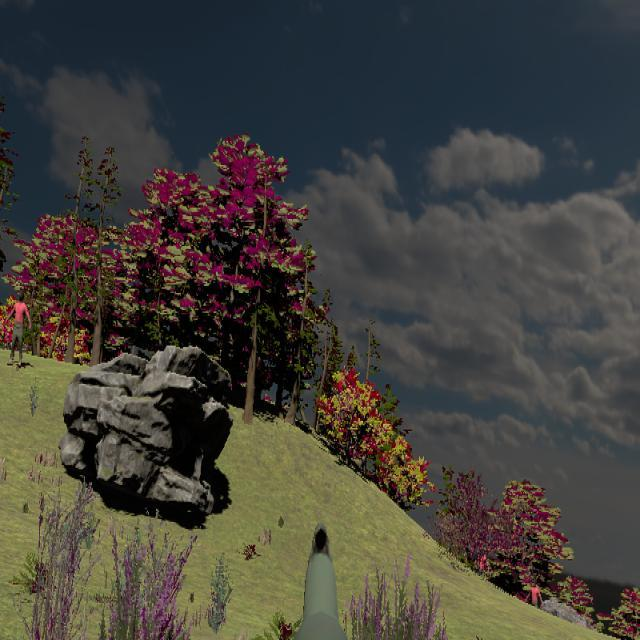Human: (5, 291, 32, 367), (5, 291, 31, 367)
